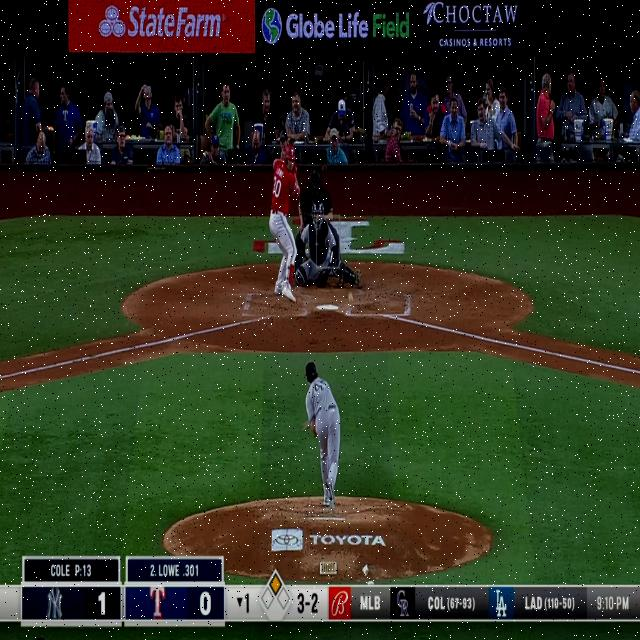baseball: (348, 292, 354, 302)
